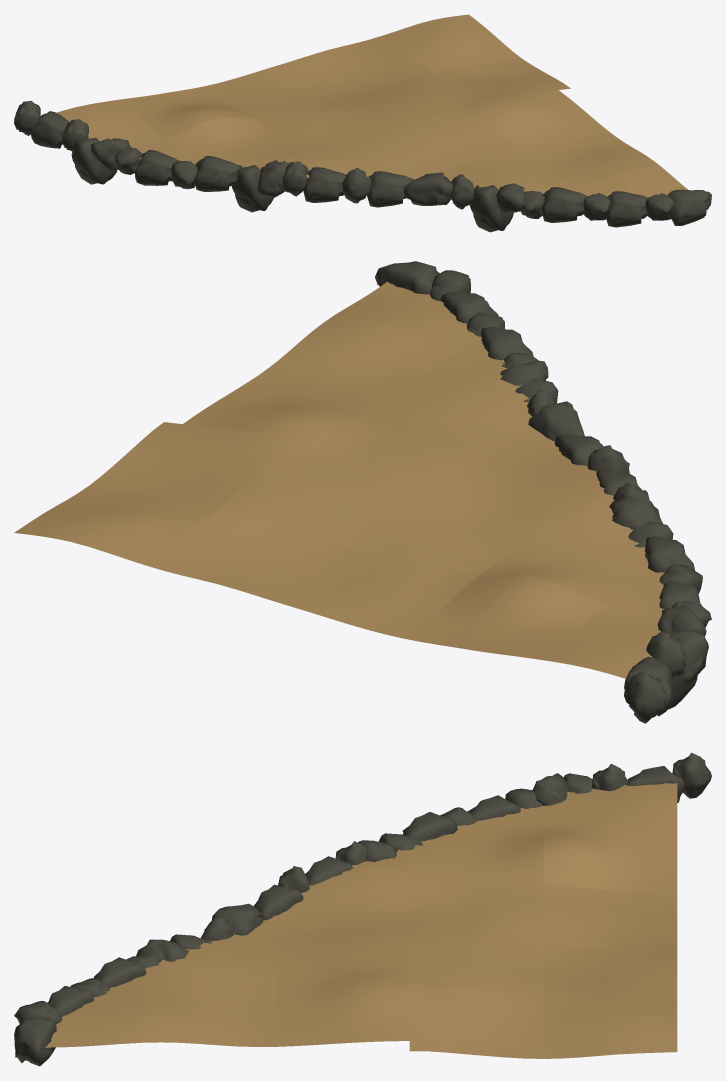
Rendered from medium_ground_03.fbx.
The picture shows the model from 3 angles, top to bottom: view 1: azimuth 30°, elevation 25°; view 2: azimuth 150°, elevation 25°; view 3: azimuth 270°, elevation 25°; orthographic projection. The views are drawn at different scales.
Parts seen in each view (by area): view 1: polySurface_medium_ground_03; view 2: polySurface_medium_ground_03; view 3: polySurface_medium_ground_03.
Boxes of the visible parts, left/top/right/bottom form: polySurface_medium_ground_03: left=14, top=14, right=711, bottom=232; polySurface_medium_ground_03: left=14, top=261, right=711, bottom=723; polySurface_medium_ground_03: left=14, top=752, right=711, bottom=1066.
Bounding box in the file's own units: 175 × 22.81 × 181.
